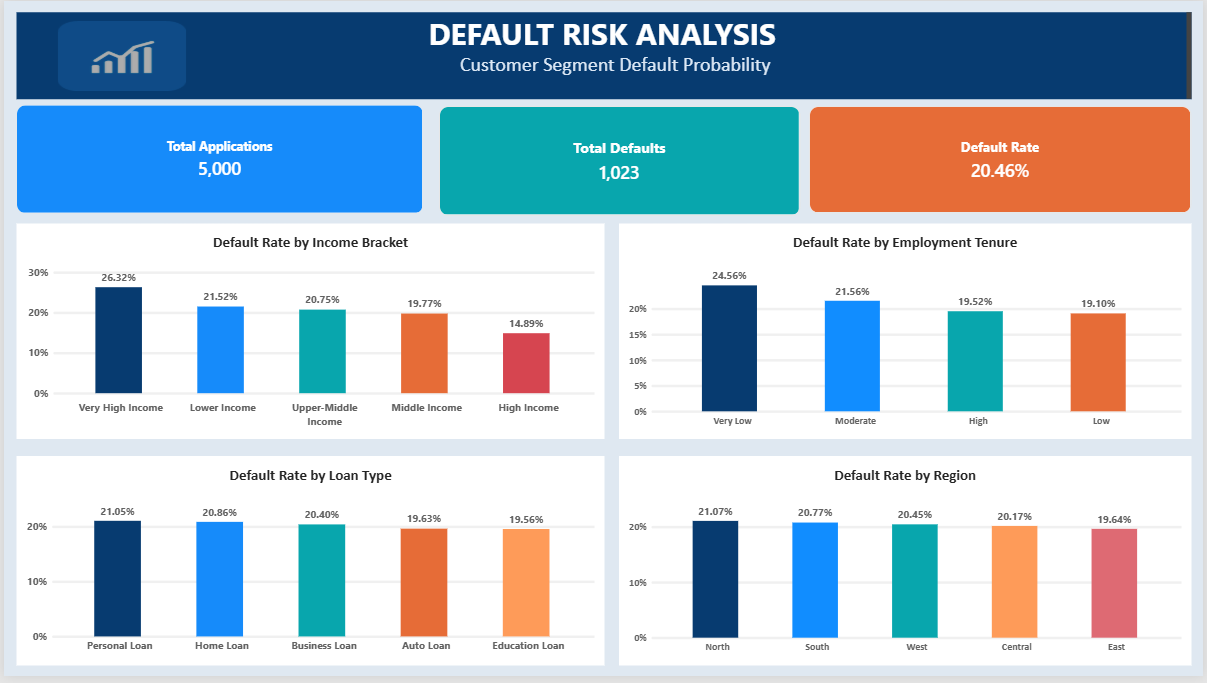

What the dashboard file says about the page in this screenshot:
{"tool":"powerbi","page":{"name":"Page 2","canvas":[1920,1080],"ordinal":1},"visuals":[{"type":"textbox","title":"DEFAULT RISK ANALYSIS","box":[19.6,17.6,1880.4,139.2],"z":0},{"type":"clusteredColumnChart","title":"Default Rate by Income Bracket","fields":{"Category":["Loan_Default_Risk_PowerBI.Income_Group"],"Y":["Loan_Default_Risk_PowerBI.Default Rate"]},"box":[19.6,356.9,941.2,345.1],"z":1000},{"type":"cardVisual","fields":{"Data":["Loan_Default_Risk_PowerBI.Default Rate"]},"box":[1287.5,167.5,612.5,175],"z":2000},{"type":"cardVisual","fields":{"Data":["Loan_Default_Risk_PowerBI.Total Applications"]},"box":[19.6,166.7,651,174.5],"z":3000},{"type":"cardVisual","fields":{"Data":["Loan_Default_Risk_PowerBI.Total Defaults"]},"box":[695,167.5,578,176],"z":4000},{"type":"clusteredColumnChart","fields":{"Category":["Loan_Default_Risk_PowerBI.Loan_Type"],"Y":["Loan_Default_Risk_PowerBI.Default Rate"]},"box":[19.6,727.5,941.2,335.3],"z":5000},{"type":"clusteredColumnChart","fields":{"Category":["Loan_Default_Risk_PowerBI.Employment_Years_Group"],"Y":["Loan_Default_Risk_PowerBI.Default Rate"]},"box":[984.3,356.9,915.7,345.1],"z":6000},{"type":"clusteredColumnChart","fields":{"Category":["Loan_Default_Risk_PowerBI.Region"],"Y":["Loan_Default_Risk_PowerBI.Default Rate"]},"box":[984.3,727.5,915.7,335.3],"z":7000},{"type":"image","box":[86.3,31.4,205.9,111.8],"z":8000}]}

Visuals, with their boxes in screenshot pixels (x1, y1, x2, y2), scaled from the page's 1920x1080 canvas onto the 1207x683 screenshot:
"DEFAULT RISK ANALYSIS" textbox: box(12, 11, 1194, 99)
"Default Rate by Income Bracket" clusteredColumnChart: box(12, 226, 604, 444)
cardVisual - Loan_Default_Risk_PowerBI.Default Rate: box(809, 106, 1194, 217)
cardVisual - Loan_Default_Risk_PowerBI.Total Applications: box(12, 105, 422, 216)
cardVisual - Loan_Default_Risk_PowerBI.Total Defaults: box(437, 106, 800, 217)
clusteredColumnChart - Loan_Default_Risk_PowerBI.Loan_Type x Loan_Default_Risk_PowerBI.Default Rate: box(12, 460, 604, 672)
clusteredColumnChart - Loan_Default_Risk_PowerBI.Employment_Years_Group x Loan_Default_Risk_PowerBI.Default Rate: box(619, 226, 1194, 444)
clusteredColumnChart - Loan_Default_Risk_PowerBI.Region x Loan_Default_Risk_PowerBI.Default Rate: box(619, 460, 1194, 672)
image: box(54, 20, 184, 91)
